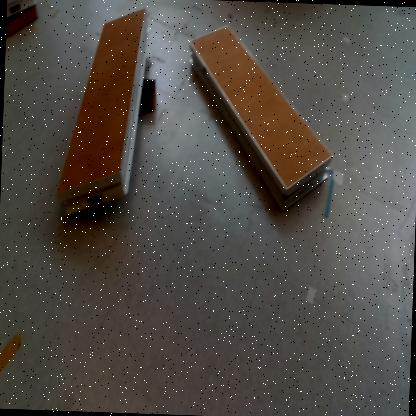Stairs: (189, 25, 334, 209), (56, 9, 152, 222), (7, 1, 37, 20)
